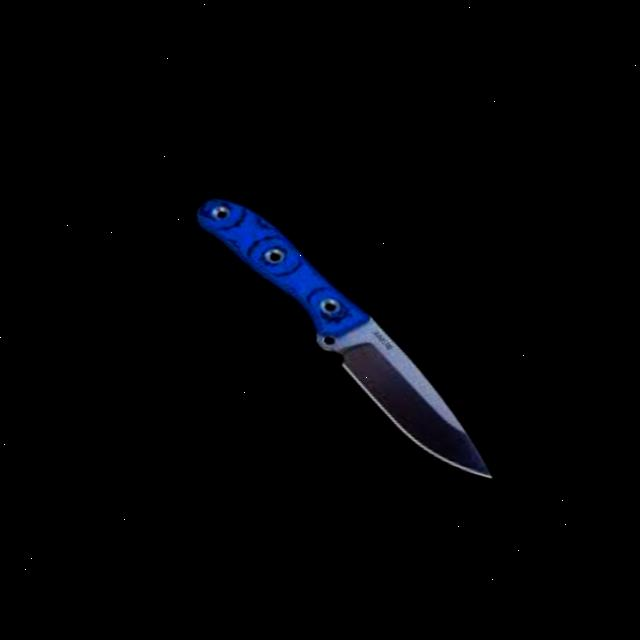Knife: (144, 189, 559, 478)
